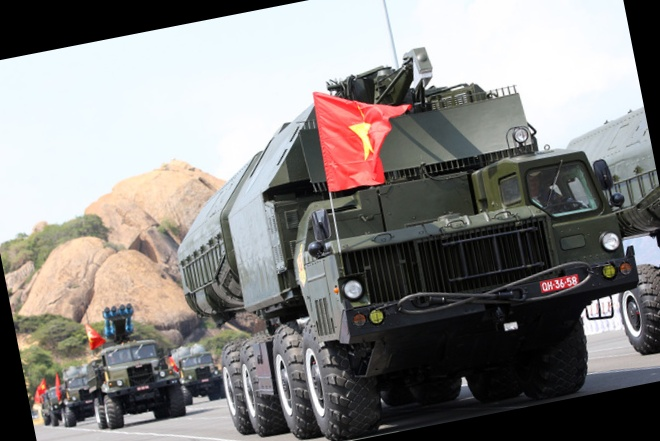plate: (534, 267, 577, 298)
